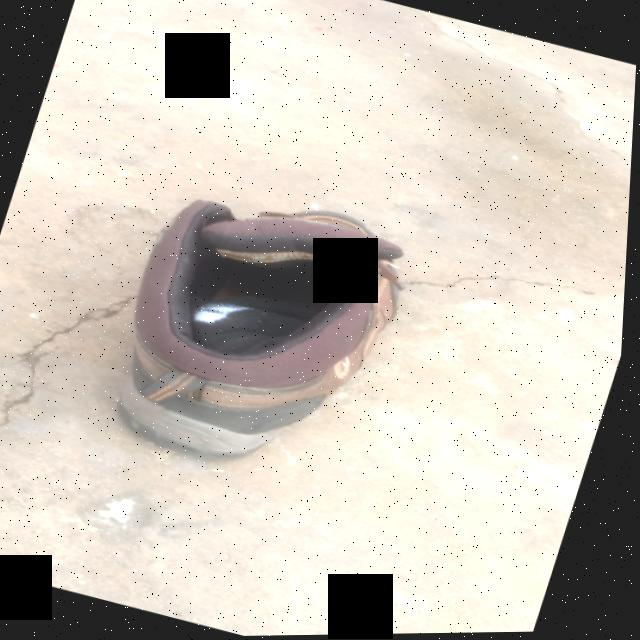shoe: (93, 165, 427, 497)
